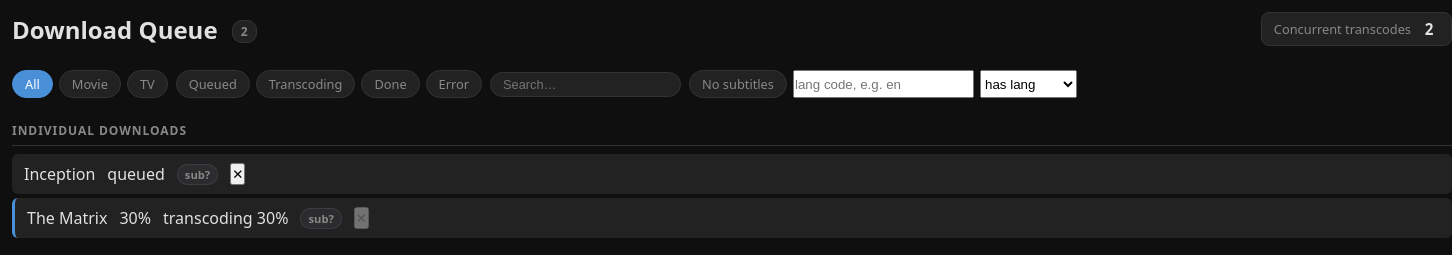
Test case: QueueView › TRANSCODING filter chip shows only transcoding items
Click the button with test id "chip-status-TRANSCODING". click: coordinates (306, 84)
box: x1=256 y1=70 x2=355 y2=98
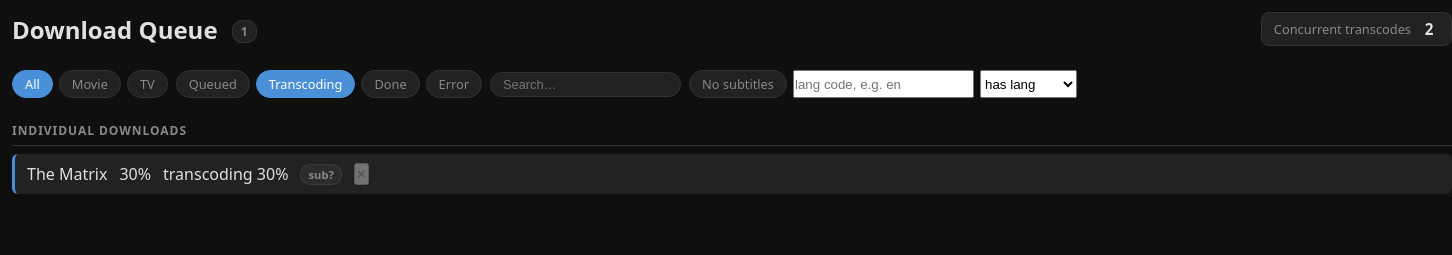
Expected: the text "The Matrix" is shown, x1=27 y1=163 x2=107 y2=185
Now the text with test id "count-badge" reads "1", box x1=241 y1=24 x2=248 y2=40
Now the text "Inception" is gone
